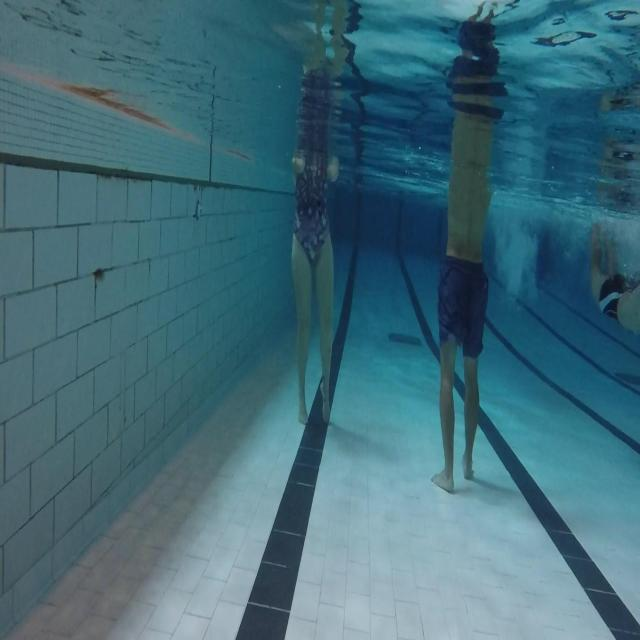human: (430, 2, 509, 493), (290, 62, 339, 426), (588, 220, 639, 334)
